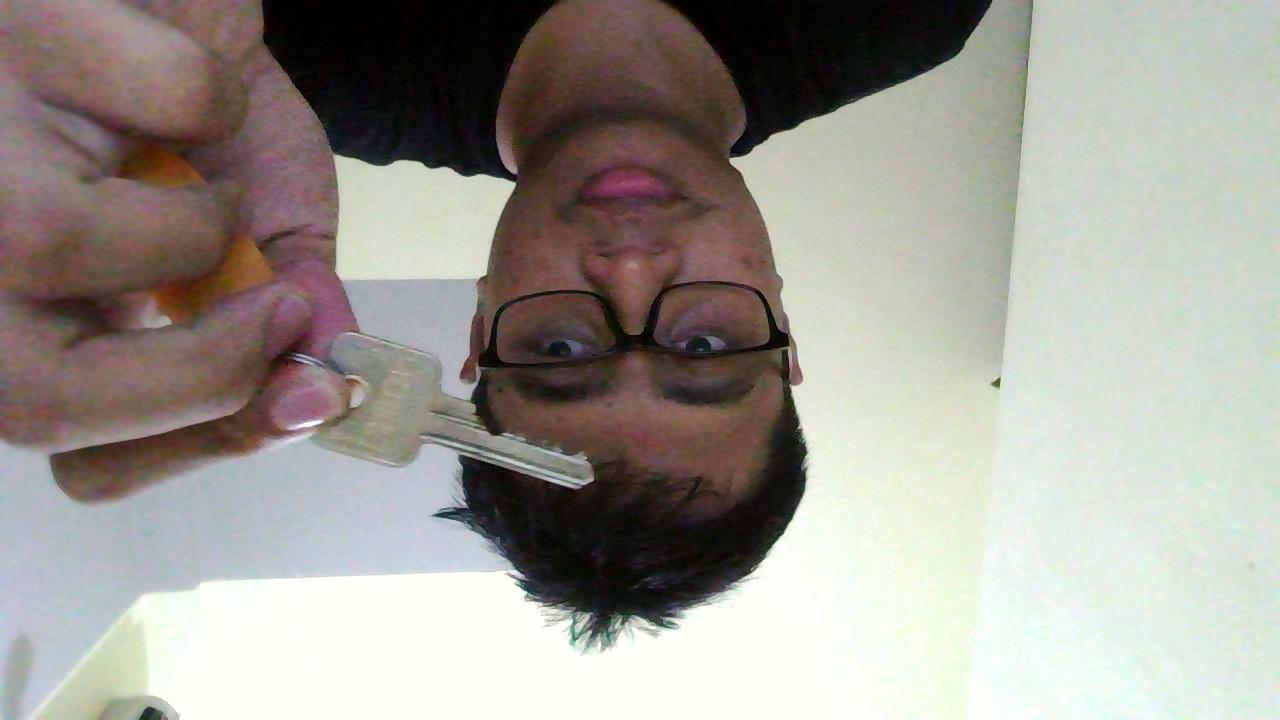keys: (313, 321, 601, 507)
